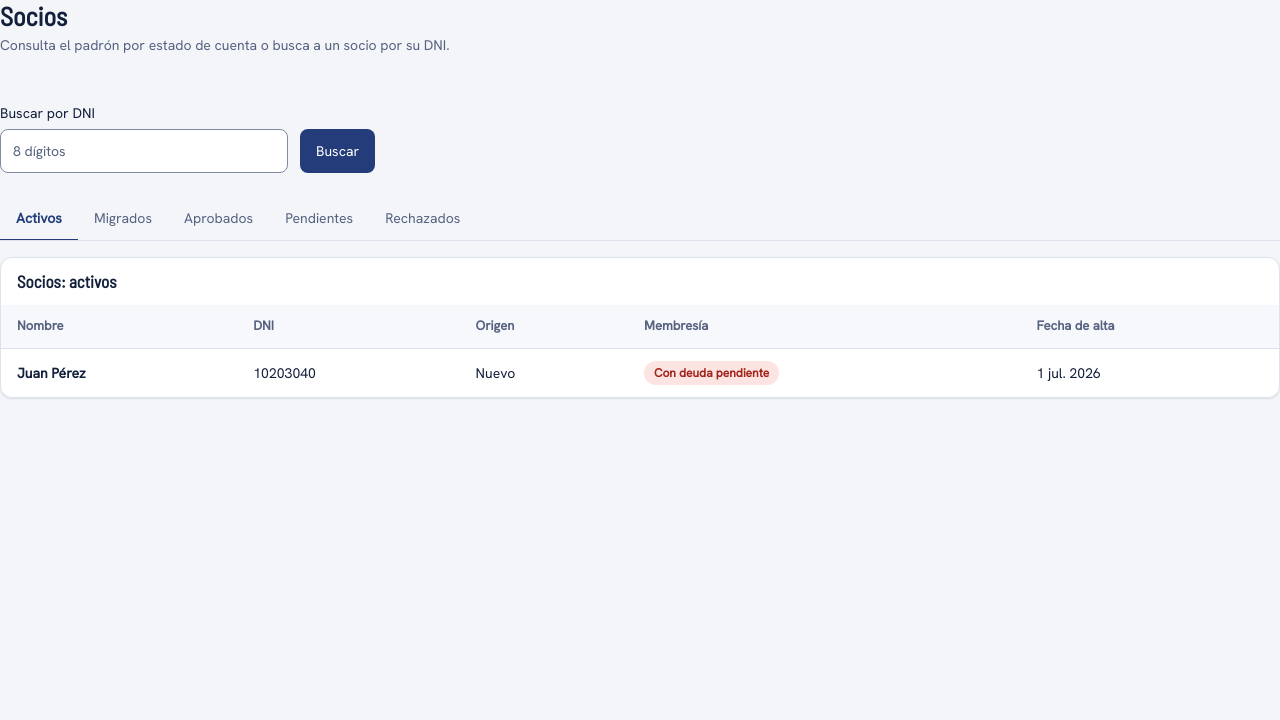
Scenario: MembersManagementPage › abre el detalle de solo lectura al hacer clic en una fila
Click the text "Juan Pérez" at (32, 373), box [17,364,86,382]
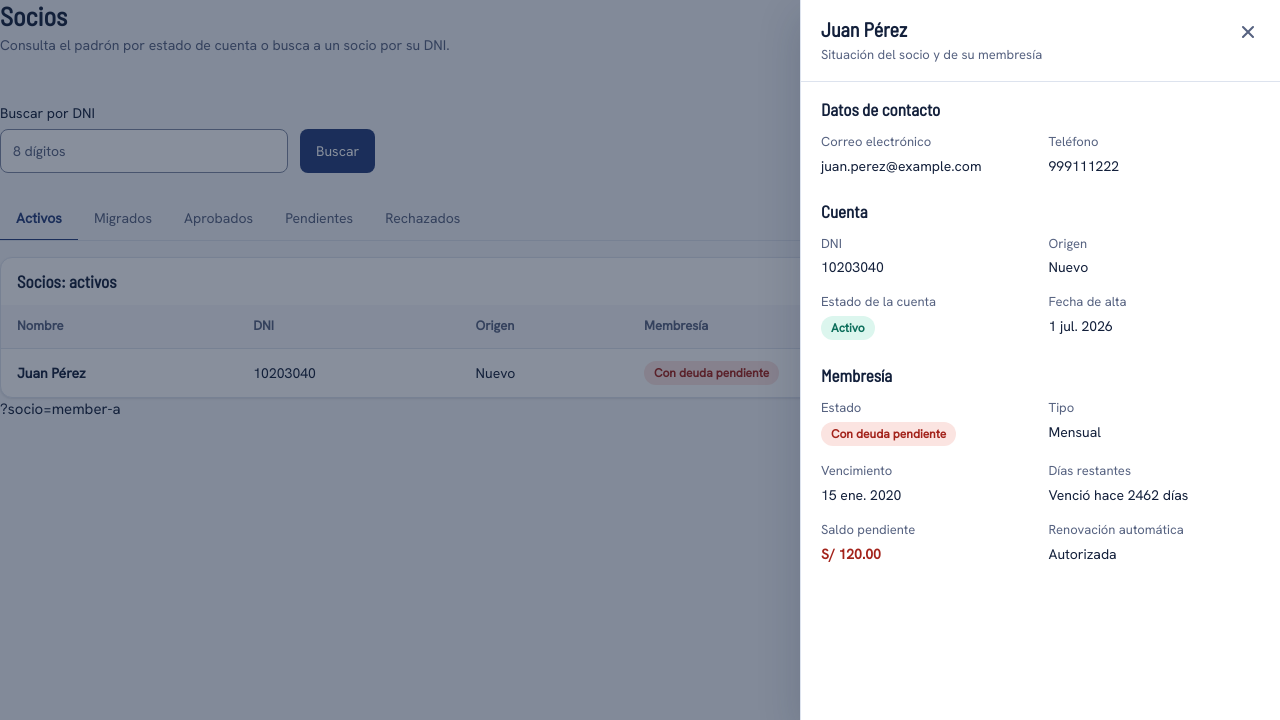
Result: the text "juan.perez@example.com" is shown at [821,157,982,175]
Result: the text "999111222" is shown at [1048,157,1119,175]
Result: the text "Activo" is shown at [821,316,875,340]
